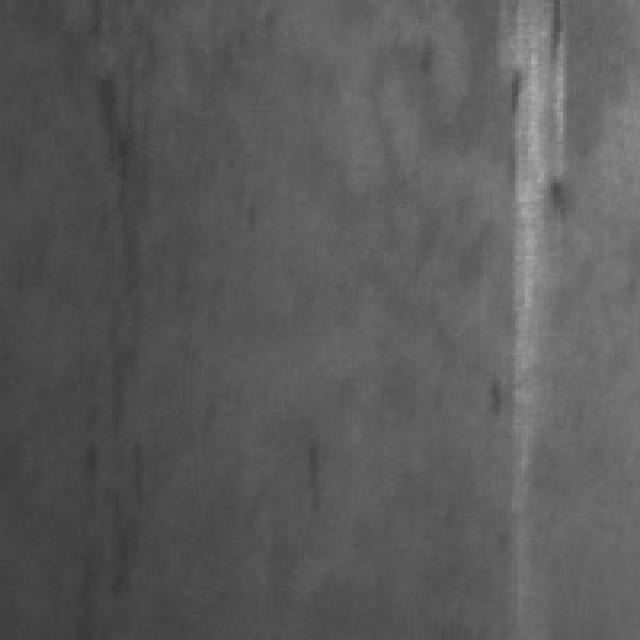scratches: (490, 0, 563, 477)
